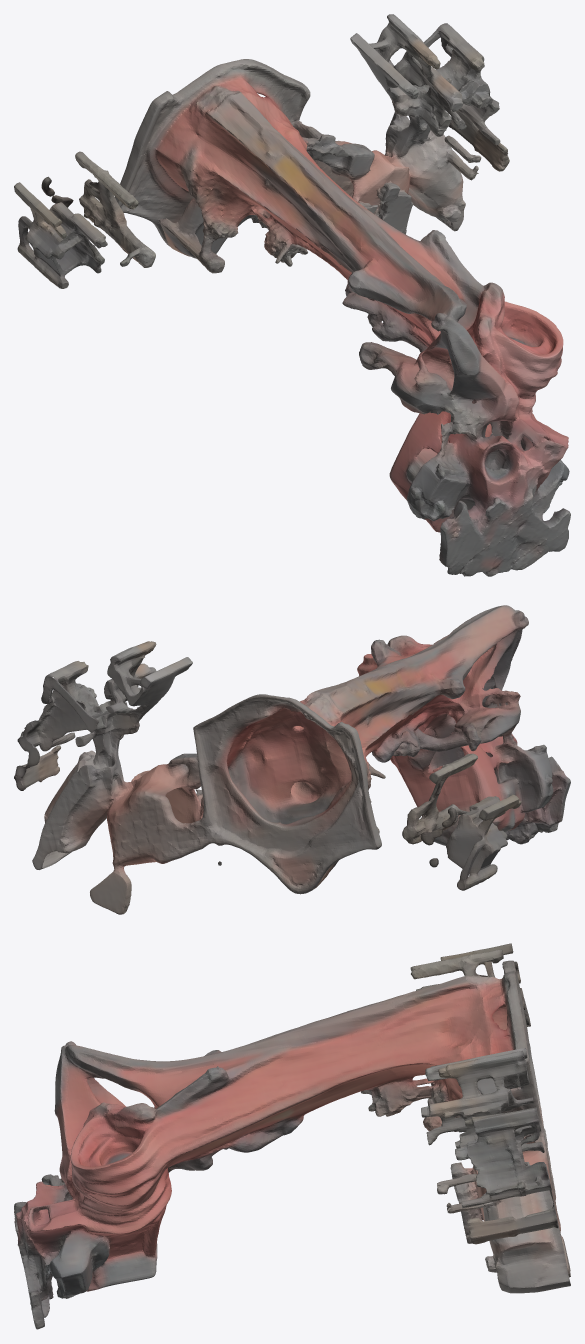
Rendered from entity-robot-photo-4.glb.
3 renders of one model, top to bottom at view 1: azimuth 30°, elevation 25°; view 2: azimuth 150°, elevation 25°; view 3: azimuth 270°, elevation 25°, orthographic. The views are drawn at different scales.
Parts seen in each view (by area): view 1: geometry_0; view 2: geometry_0; view 3: geometry_0.
Boxes of the visible parts, x1,y1,x2,y2 form: geometry_0: (14,14,570,576); geometry_0: (14,605,570,914); geometry_0: (14,943,570,1329).
Bounding box in the file's own units: 2.58 × 1.76 × 2.72.
